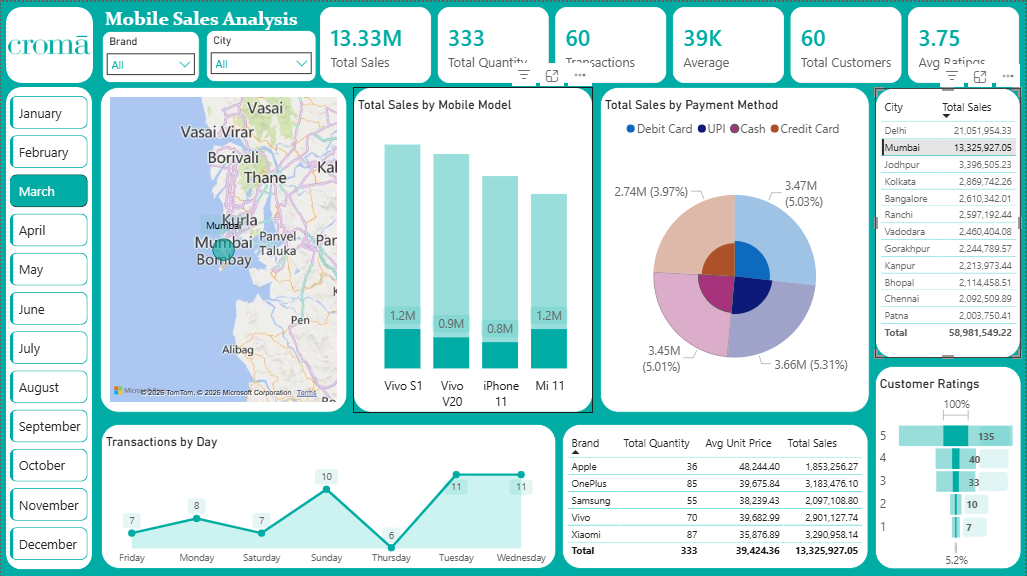

This screenshot's page, from the dashboard's own definition file:
{"tool":"powerbi","page":{"name":"Page 1","canvas":[1280,720],"ordinal":0},"visuals":[{"type":"shape","box":[5.6,6.2,108.8,95],"z":0},{"type":"image","box":[8.1,21.2,103.1,64.4],"z":1000},{"type":"shape","box":[6.7,105.8,107.6,603.1],"z":1000,"group":"g1"},{"type":"group","id":"g1","title":"Group 4","box":[6.7,105.8,107.6,603.1],"z":1001,"group":"g2"},{"type":"group","id":"g2","title":"Group 3","box":[6.7,105.8,108.3,603.3],"z":2000},{"type":"advancedSlicerVisual","fields":{"Values":["Croma Sales.Sale_Date.Variation.Date Hierarchy.Month"]},"box":[12.1,116.7,97.6,582.3],"z":2001,"group":"g1"},{"type":"cardVisual","fields":{"Data":["Croma Sales.Total Sales","Croma Sales.Total Quantity","Croma Sales.Transactions","Croma Sales.Average","Croma Sales.Total Customers","Croma Sales.Avg Ratings"]},"box":[399,6,875,95],"z":3000},{"type":"map","fields":{"Category":["Croma Sales.City"],"Size":["Croma Sales.Total Sales"]},"box":[123.3,106.7,308.9,406.7],"z":4000},{"type":"lineChart","title":"Transactions by Day","fields":{"Category":["Croma Sales.Day Name"],"Y":["Croma Sales.Transactions"]},"box":[124.7,528,568.7,180.7],"z":5000},{"type":"clusteredColumnChart","fields":{"Y":["Croma Sales.Total Sales"],"Category":["Croma Sales.Mobile Model"]},"box":[440,106.7,300,406.7],"z":6000},{"type":"pieChart","fields":{"Y":["Croma Sales.Total Sales"],"Category":["Croma Sales.Payment Method"]},"box":[748.3,106.7,336.7,406.7],"z":7000},{"type":"tableEx","fields":{"Values":["Croma Sales.Brand","Croma Sales.Total Quantity","Croma Sales.Avg Unit Price","Croma Sales.Total Sales"]},"box":[701.3,528,383.3,180.7],"z":8000},{"type":"funnel","title":"Customer Ratings","fields":{"Category":["Croma Sales.Customer Ratings"],"Y":["Sum(Croma Sales.Customer Ratings)"]},"box":[1092.3,454.6,183.1,253.8],"z":9000},{"type":"tableEx","fields":{"Values":["Croma Sales.City","Croma Sales.Total Sales"]},"box":[1092.3,106.9,182.3,338.5],"z":10000},{"type":"group","id":"g3","title":"Group 1","box":[125.6,35,267.5,66.2],"z":11000},{"type":"slicer","fields":{"Values":["Croma Sales.Brand"]},"box":[125.6,36,122,65],"z":11000,"group":"g3"},{"type":"textbox","box":[124.7,6,268.7,29.3],"z":12000},{"type":"slicer","fields":{"Values":["Croma Sales.City"]},"box":[255.6,35,138,65],"z":13000,"group":"g3"}]}

Visuals, with their boxes in screenshot pixels (x1, y1, x2, y2), scaled from the page's 1280x720 canvas onto the 1027x576 screenshot:
shape: (4, 5, 92, 81)
image: (6, 17, 89, 68)
shape: (5, 85, 92, 567)
"Group 4" group: (5, 85, 92, 567)
"Group 3" group: (5, 85, 92, 567)
advancedSlicerVisual - Croma Sales.Sale_Date.Variation.Date Hierarchy.Month: (10, 93, 88, 559)
cardVisual - Croma Sales.Total Sales x Croma Sales.Total Quantity: (320, 5, 1022, 81)
map - Croma Sales.City x Croma Sales.Total Sales: (99, 85, 347, 411)
"Transactions by Day" lineChart: (100, 422, 556, 567)
clusteredColumnChart - Croma Sales.Total Sales x Croma Sales.Mobile Model: (353, 85, 594, 411)
pieChart - Croma Sales.Total Sales x Croma Sales.Payment Method: (600, 85, 871, 411)
tableEx - Croma Sales.Brand x Croma Sales.Total Quantity: (563, 422, 870, 567)
"Customer Ratings" funnel: (876, 364, 1023, 567)
tableEx - Croma Sales.City x Croma Sales.Total Sales: (876, 86, 1023, 356)
"Group 1" group: (101, 28, 315, 81)
slicer - Croma Sales.Brand: (101, 29, 199, 81)
textbox: (100, 5, 316, 28)
slicer - Croma Sales.City: (205, 28, 316, 80)
